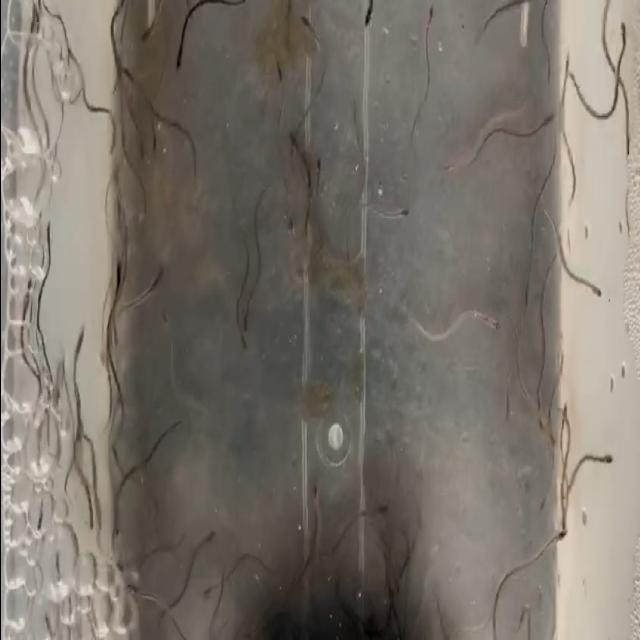active_glass_eel: (194, 522, 218, 564), (24, 0, 42, 51), (72, 318, 88, 372), (283, 208, 303, 250), (361, 0, 378, 43), (280, 126, 302, 156), (118, 62, 136, 98), (234, 307, 248, 353), (559, 46, 575, 86), (309, 478, 325, 518), (94, 330, 110, 370), (374, 491, 392, 526), (619, 121, 633, 165), (296, 13, 318, 41), (392, 198, 410, 232), (110, 445, 126, 483), (148, 256, 164, 293), (18, 276, 32, 318), (148, 123, 162, 163), (483, 306, 501, 336), (112, 256, 125, 297), (549, 522, 571, 546), (594, 449, 616, 473), (174, 34, 186, 78), (498, 389, 511, 429), (310, 152, 326, 184), (618, 13, 633, 47), (533, 390, 543, 440), (558, 401, 572, 435), (520, 274, 533, 310), (423, 0, 438, 30), (586, 278, 606, 300), (238, 308, 254, 335), (44, 215, 52, 267), (104, 125, 116, 159), (82, 503, 94, 536), (134, 127, 146, 159), (540, 106, 559, 126), (200, 582, 217, 604), (274, 59, 286, 90), (540, 481, 550, 516), (112, 318, 120, 358), (140, 22, 152, 48), (542, 64, 550, 96), (548, 444, 558, 453)
